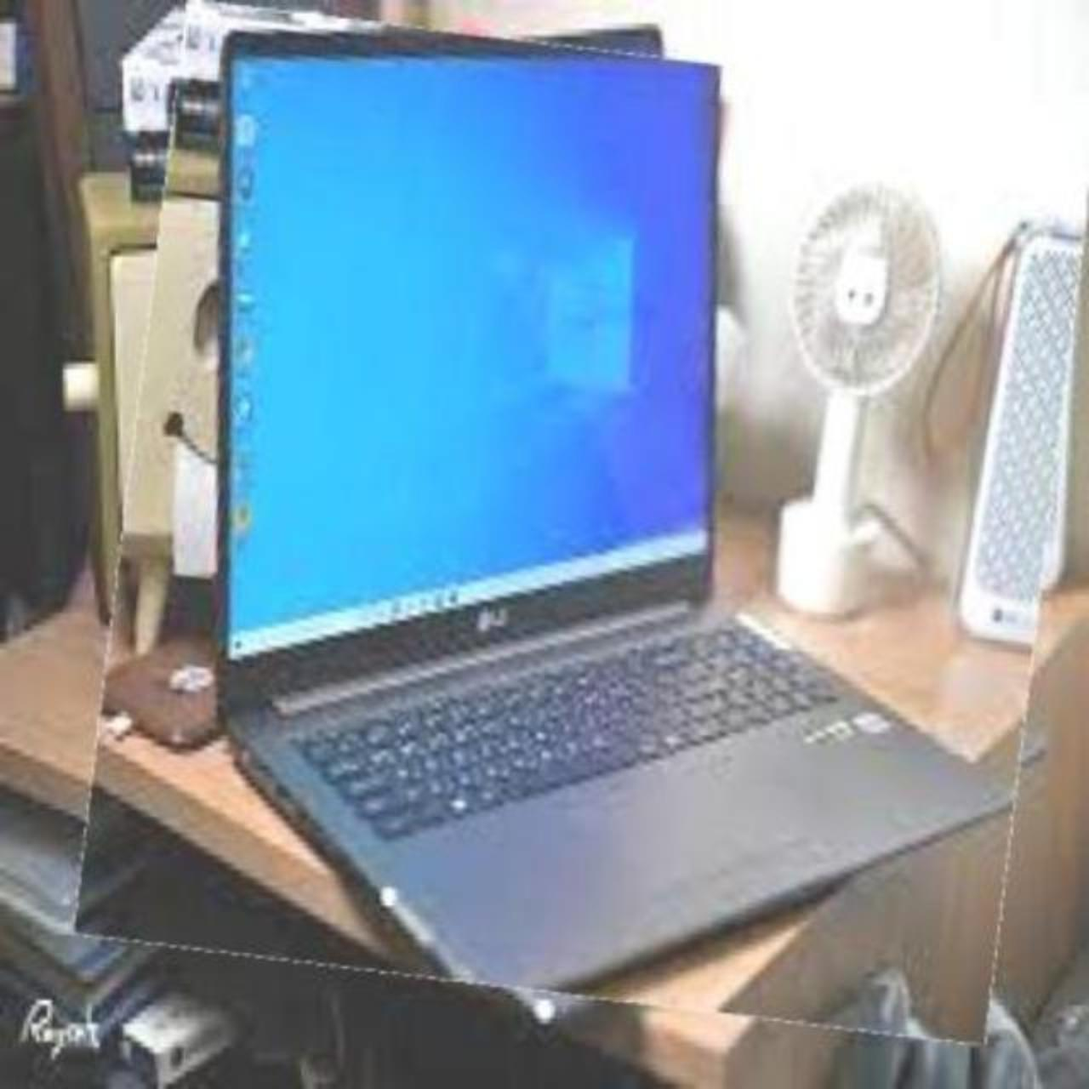laptop: (102, 28, 1072, 1020)
